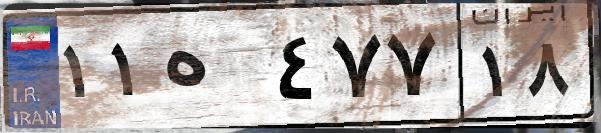1: (57, 26, 110, 100), (475, 38, 525, 113), (110, 28, 158, 98)
4: (270, 28, 330, 110)
7: (385, 28, 445, 110), (330, 28, 385, 110)
8: (525, 38, 570, 115)
ه: (158, 20, 270, 120)
